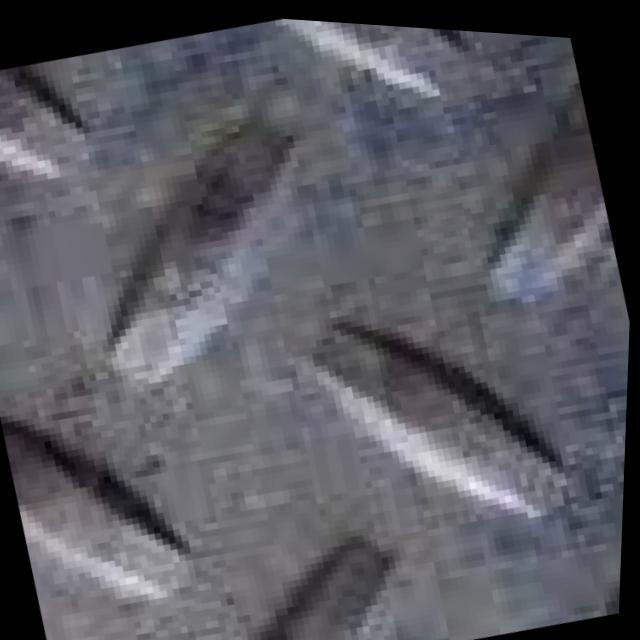metal-plates: (1, 16, 633, 640)
